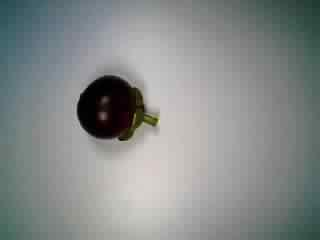mangosteen: (73, 69, 164, 145)
